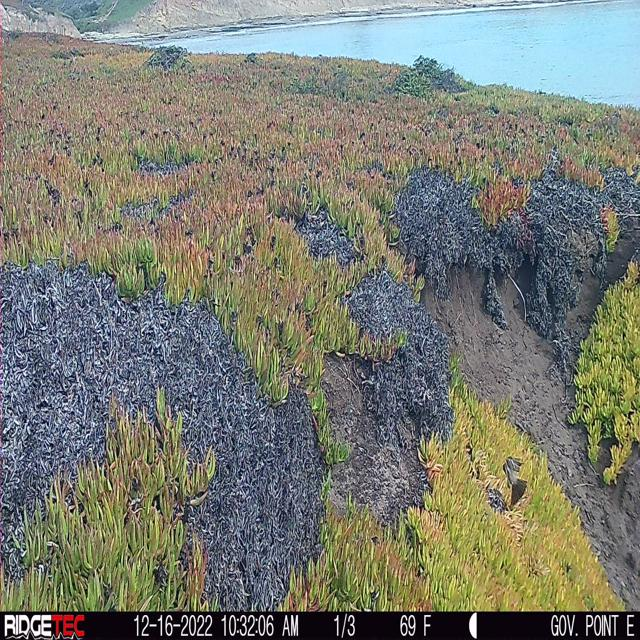bird: (490, 449, 534, 509)
